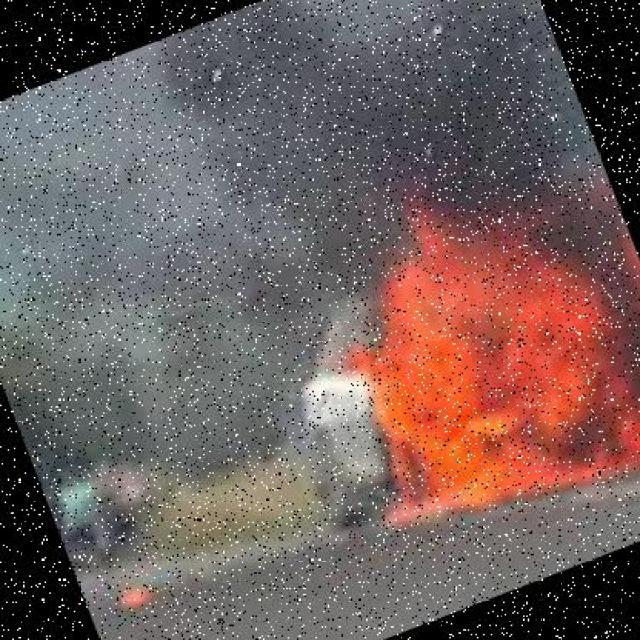fire: (297, 146, 638, 548)
